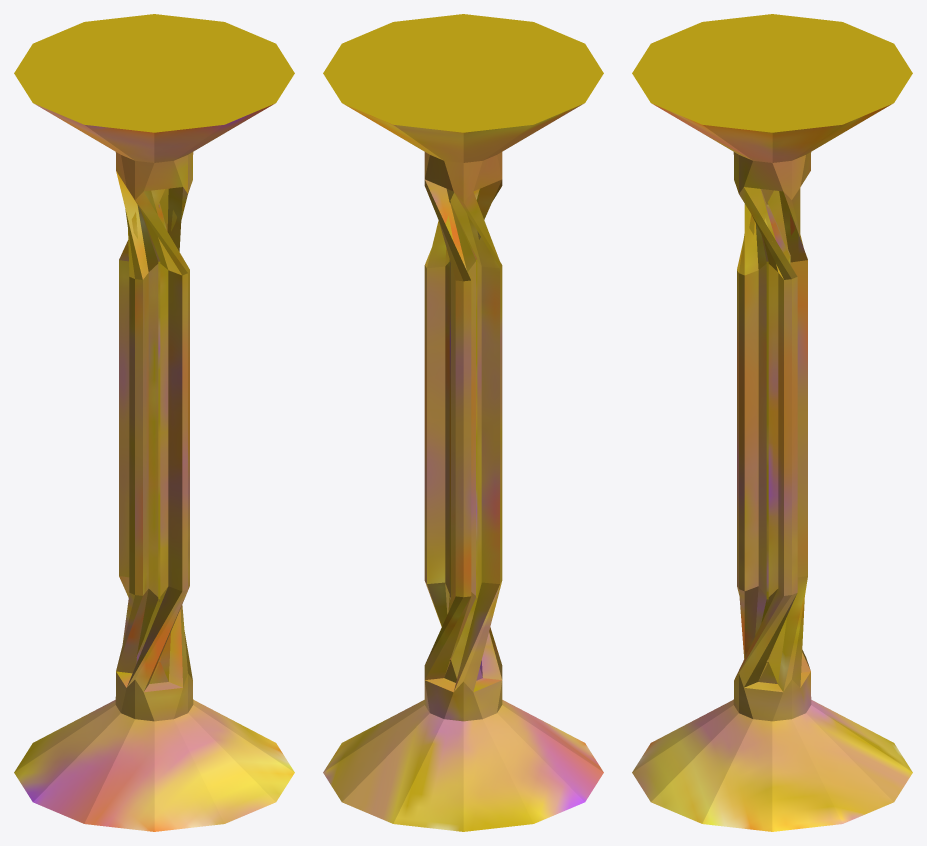
Rendered from column.fbx.
3 renders of one model, left to right at view 1: azimuth 30°, elevation 25°; view 2: azimuth 150°, elevation 25°; view 3: azimuth 270°, elevation 25°, orthographic.
Visible parts, largest first — view 1: Cylinder; view 2: Cylinder; view 3: Cylinder.
Part boxes in pixels (left/top/right/bottom): Cylinder: left=14, top=14, right=294, bottom=831; Cylinder: left=323, top=14, right=603, bottom=831; Cylinder: left=632, top=14, right=912, bottom=831.
Bounding box in the file's own units: 363 × 996 × 363.
